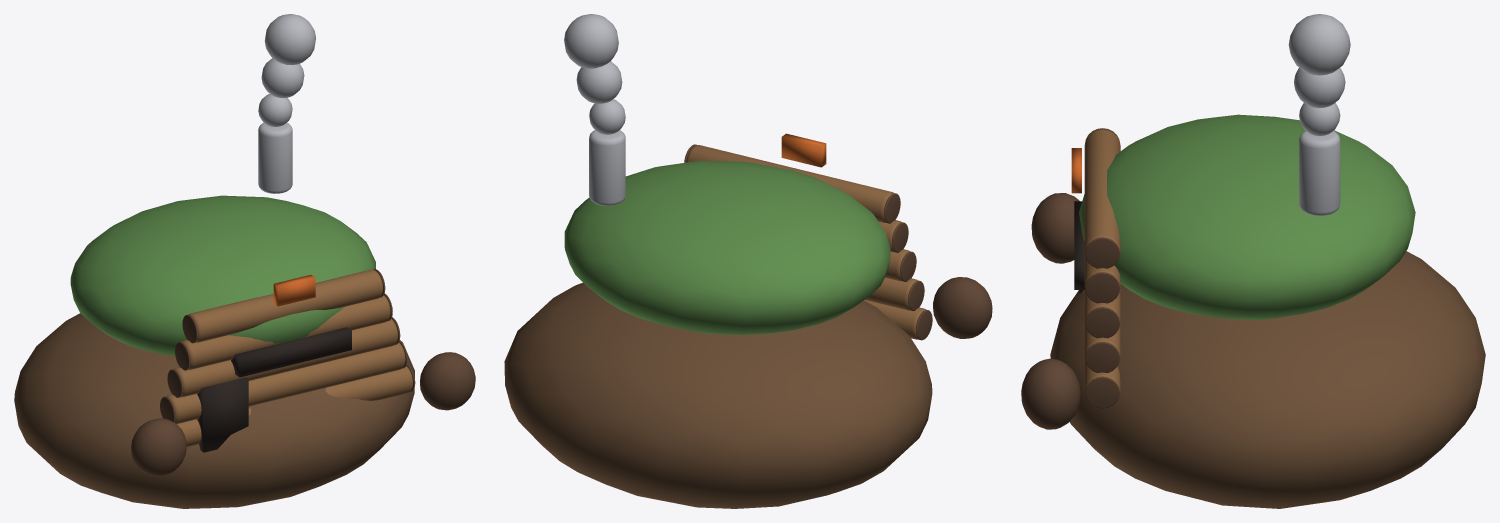
File: Bunker.fbx
3 views of the same model, side by side, from view 1: azimuth 30°, elevation 25°; view 2: azimuth 150°, elevation 25°; view 3: azimuth 270°, elevation 25° (orthographic). The views are drawn at different scales.
Parts seen in each view (by area): view 1: Bunker; view 2: Bunker; view 3: Bunker.
Part boxes in pixels (bbox=[...]): Bunker: bbox=[14, 14, 475, 508]; Bunker: bbox=[504, 14, 992, 508]; Bunker: bbox=[1021, 14, 1485, 508].
Bounding box in the file's own units: 0.9575 × 1.08 × 0.8988.
